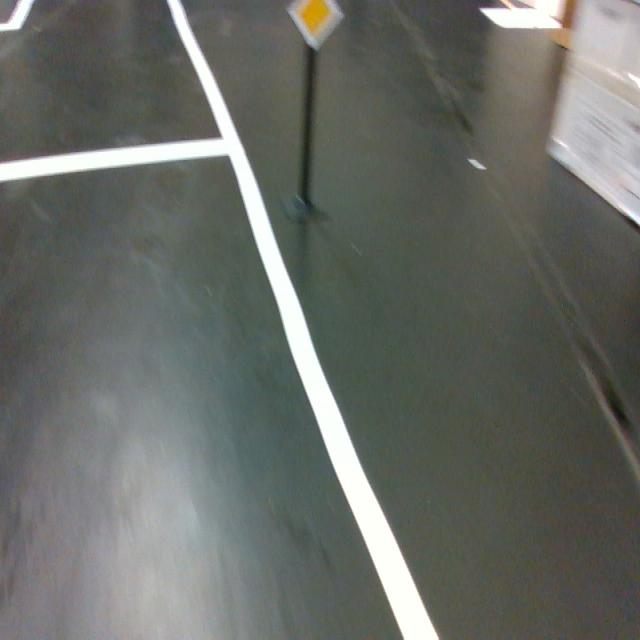priority-sign: (284, 0, 346, 53)
